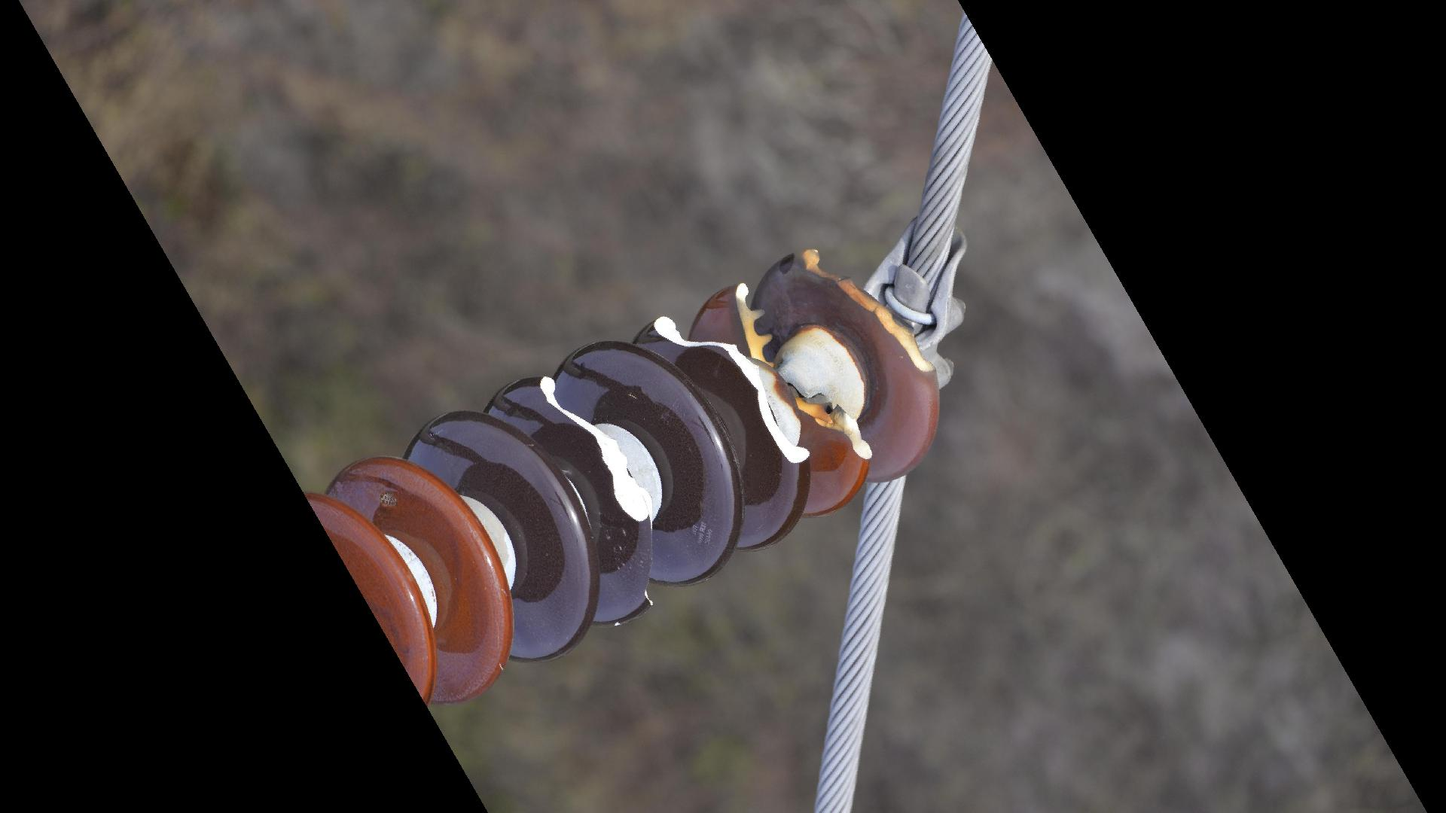insulator: (297, 240, 951, 722)
insulator_breakage: (527, 362, 675, 628), (724, 276, 884, 475), (642, 305, 816, 478), (793, 239, 944, 386)
